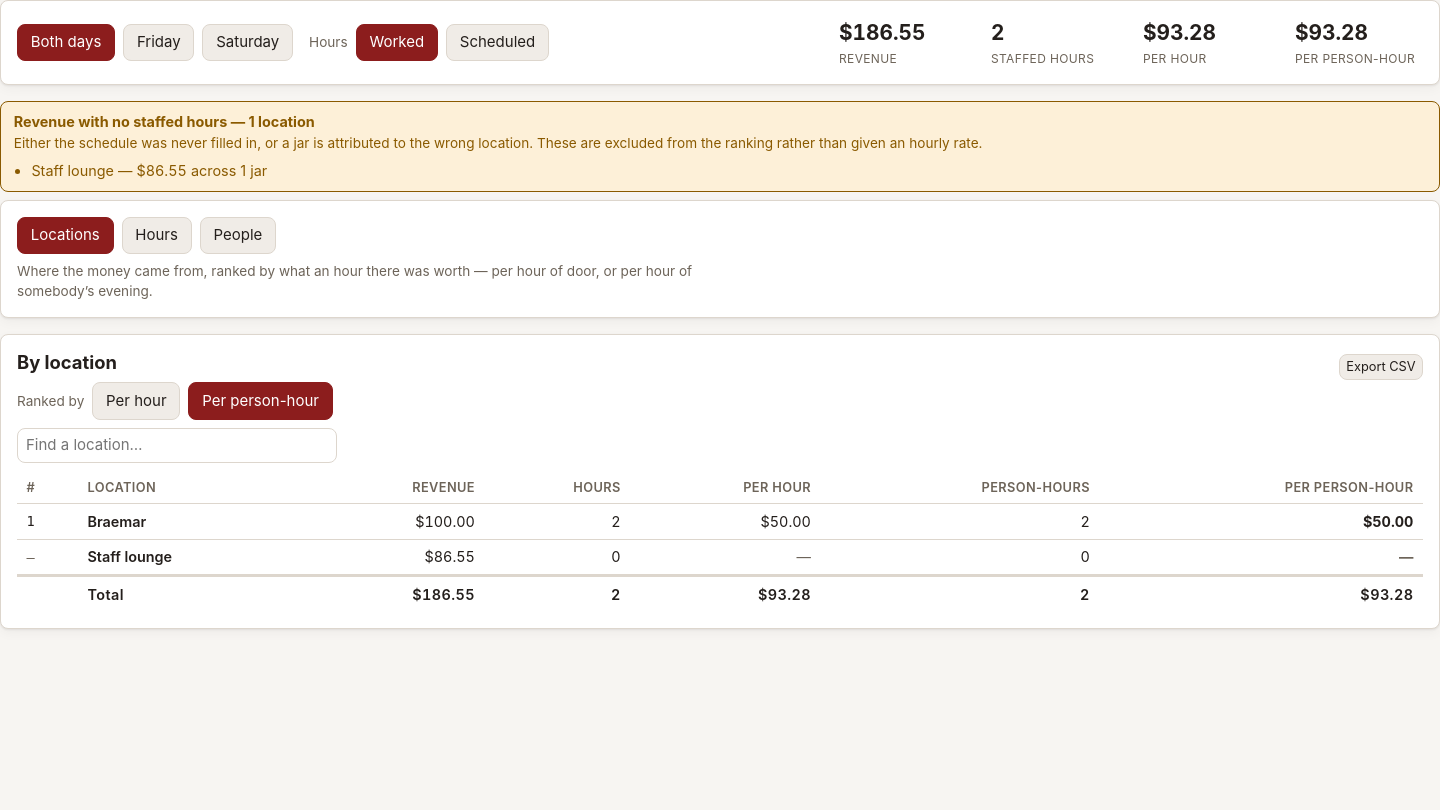
Test: the by-hour breakdown › shows the hour that took the most
This screenshot has width=1440, height=810.
Click the tab "Hours": [157, 236] box [122, 217, 192, 254]
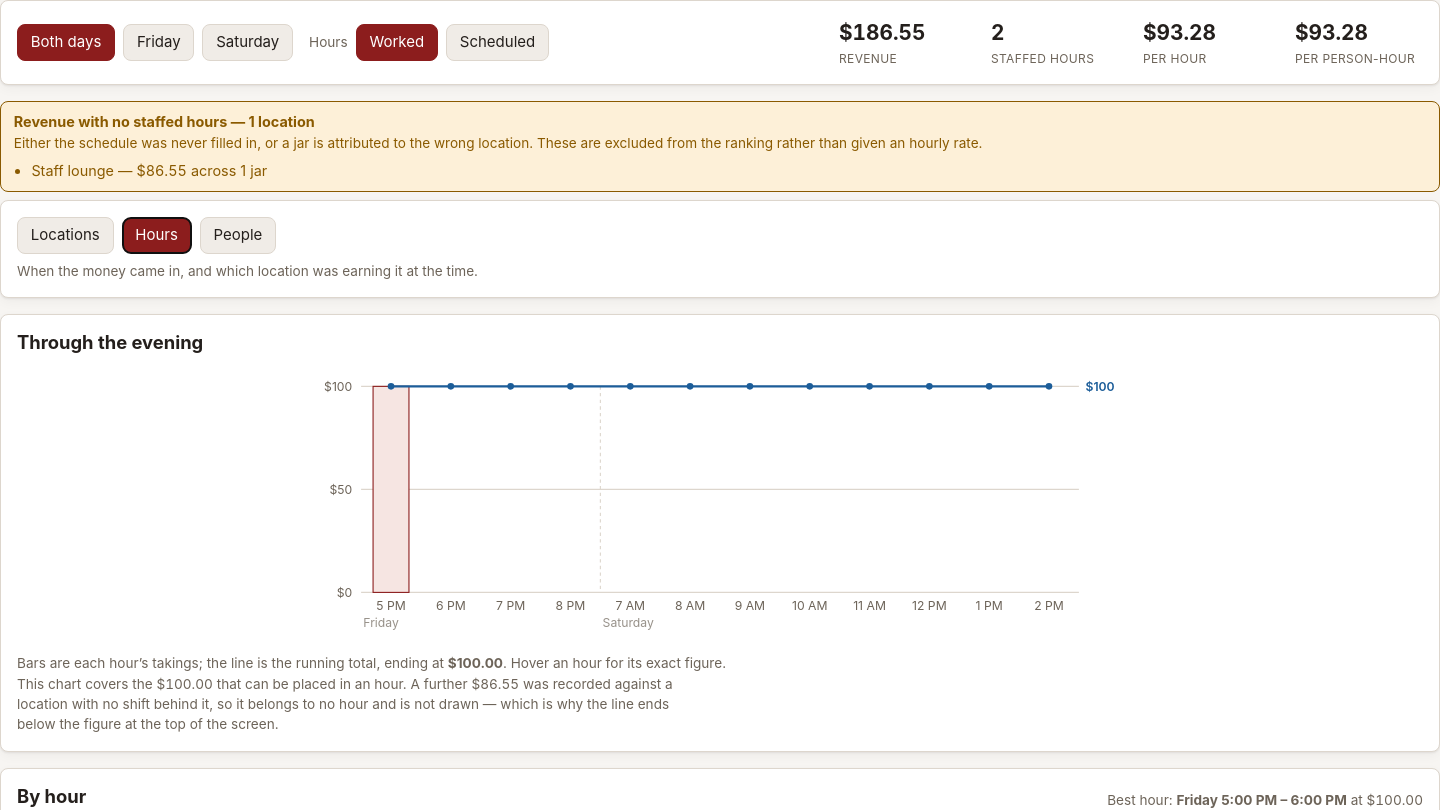
Check: the text "Best hour: Friday 5:00 PM – 6:00 PM at $100.00" is shown, box [1107, 790, 1423, 809]
